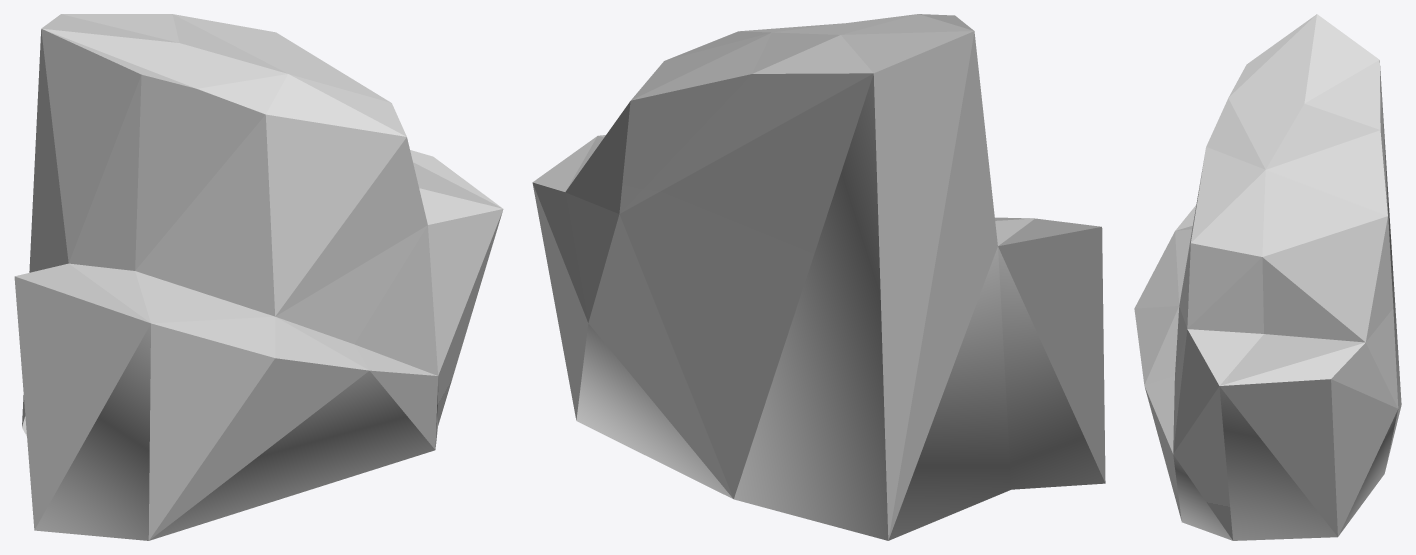
The model's file is EA01_Env_Clif_01a.glb.
3 views of the same model, side by side, from view 1: azimuth 30°, elevation 25°; view 2: azimuth 150°, elevation 25°; view 3: azimuth 270°, elevation 25° (orthographic). The views are drawn at different scales.
Parts seen in each view (by area): view 1: EA01_Env_Clif_01a; view 2: EA01_Env_Clif_01a; view 3: EA01_Env_Clif_01a.
Boxes of the visible parts, bbox=[...] form: EA01_Env_Clif_01a: bbox=[14, 14, 503, 540]; EA01_Env_Clif_01a: bbox=[532, 14, 1105, 540]; EA01_Env_Clif_01a: bbox=[1134, 14, 1401, 540].
Bounding box in the file's own units: 13.4 × 12.03 × 7.59.
1 material, 1 textured.
